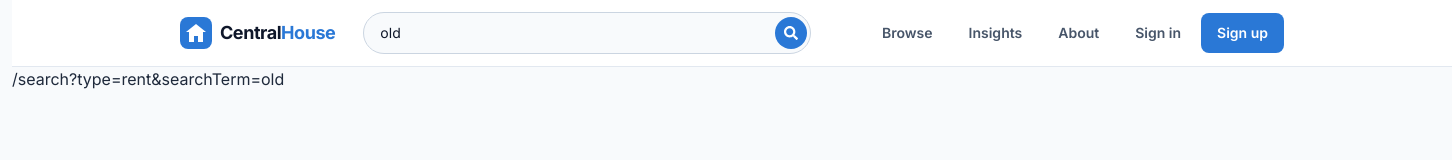
it: Header › navigates to search results, keeping other filters
Step 1. Replace the text in the field with placeholder "Search homes by name..." with "garden" → [587, 33], box [363,12,811,54]
Then press Enter
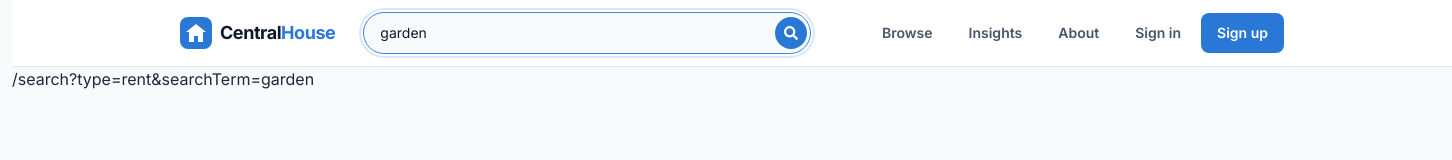
Now the text with test id "location" reads "/search?type=rent&searchTerm=garden", box [12,69,314,89]
